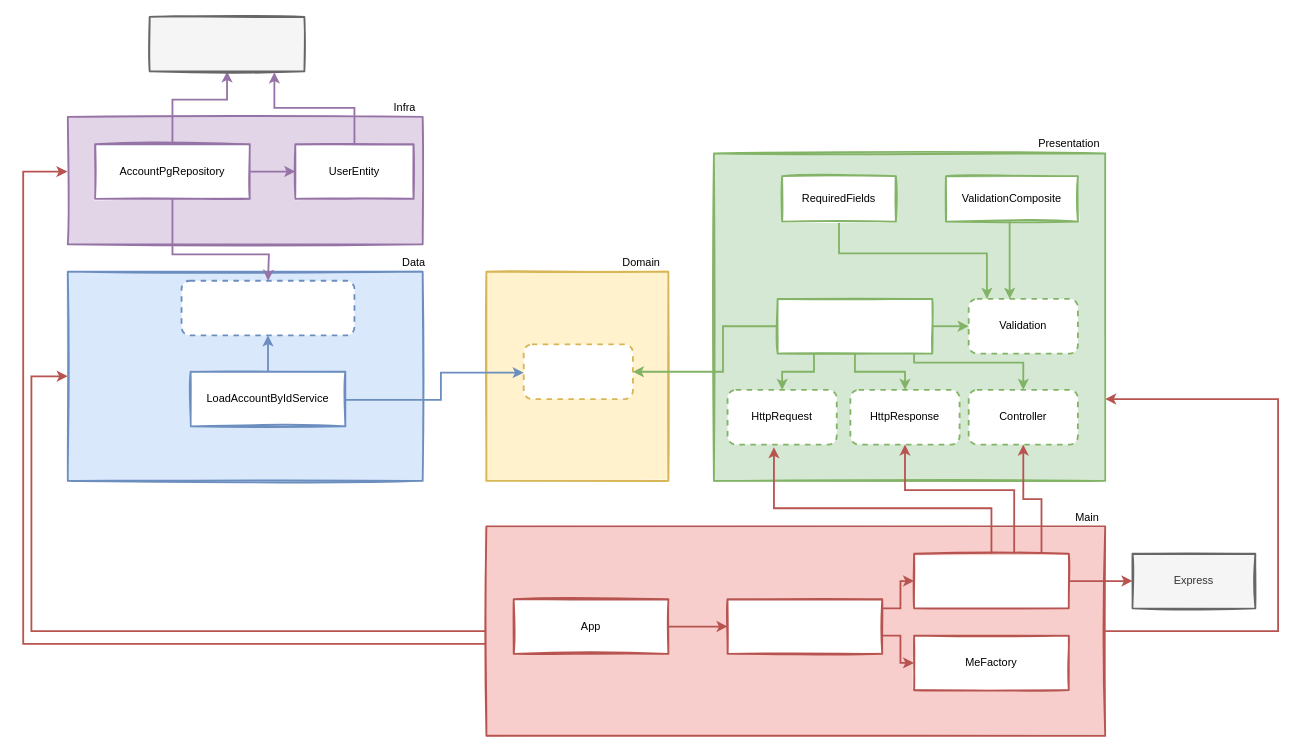
This 1301x752 diagram has some shape labels left out. The centre of each missing label's shape, as x and y in pixels:
"ExpressRouteAdapter" belongs at point (991, 580).
"LoadAccountById" belongs at point (577, 371).
"LoadAccountByIdRepository" belongs at point (267, 307).
"MeController" belongs at point (854, 326).
"MeRouter" belongs at point (804, 626).
"TypeOrm" belongs at point (226, 43).
